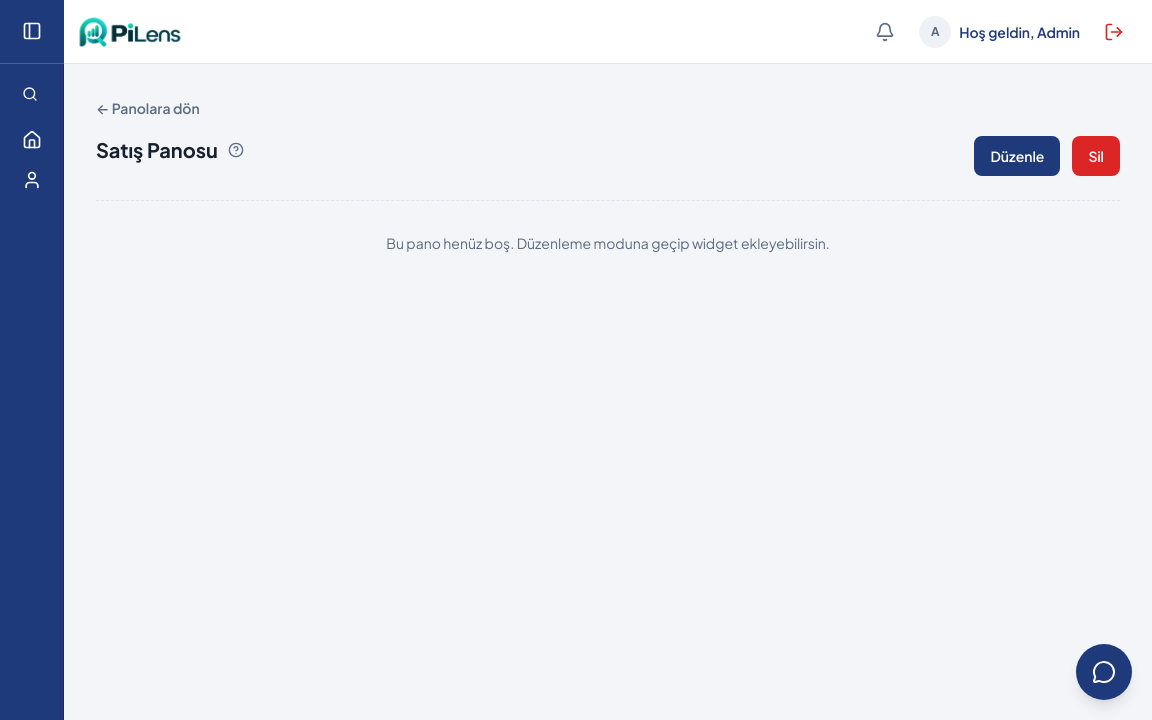
Test: DashboardViewPage › Sil butonu: onay modalinde vazgecilirse silme istegi atilmaz ve modal kapanir
The width and height of the screenshot is (1152, 720).
Click the button "Sil" at x=1096, y=156, box [1072,136,1120,176]
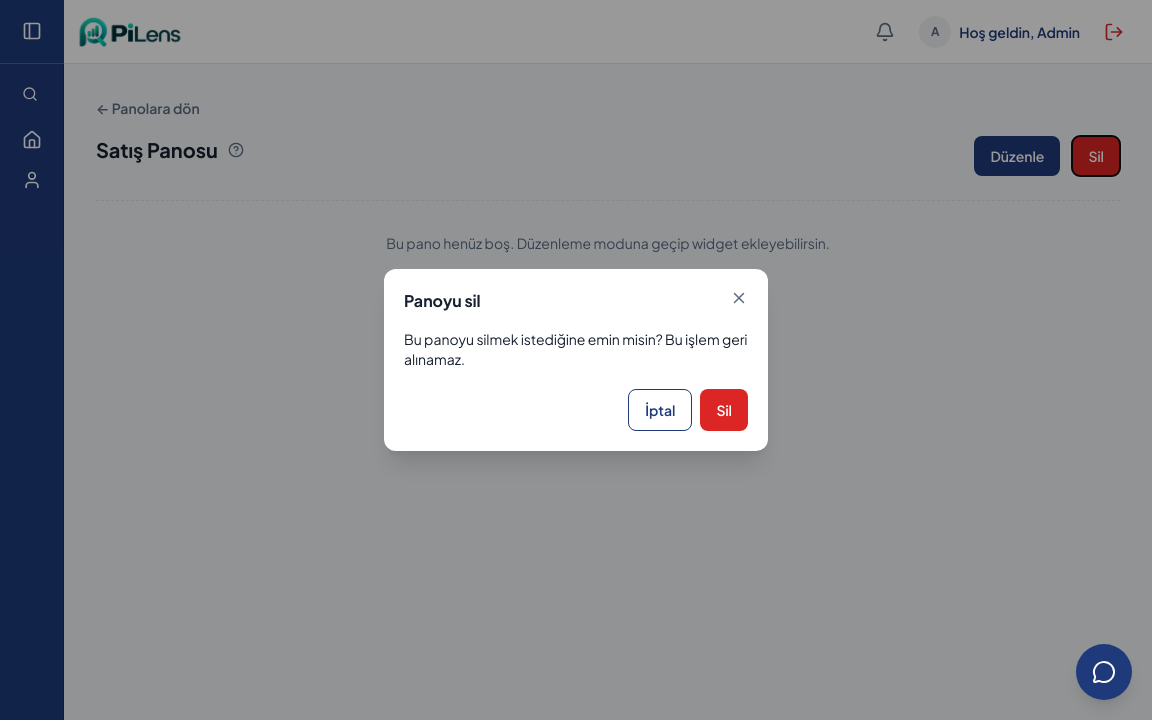
Click the button "İptal" at x=660, y=410, box [628,389,692,431]
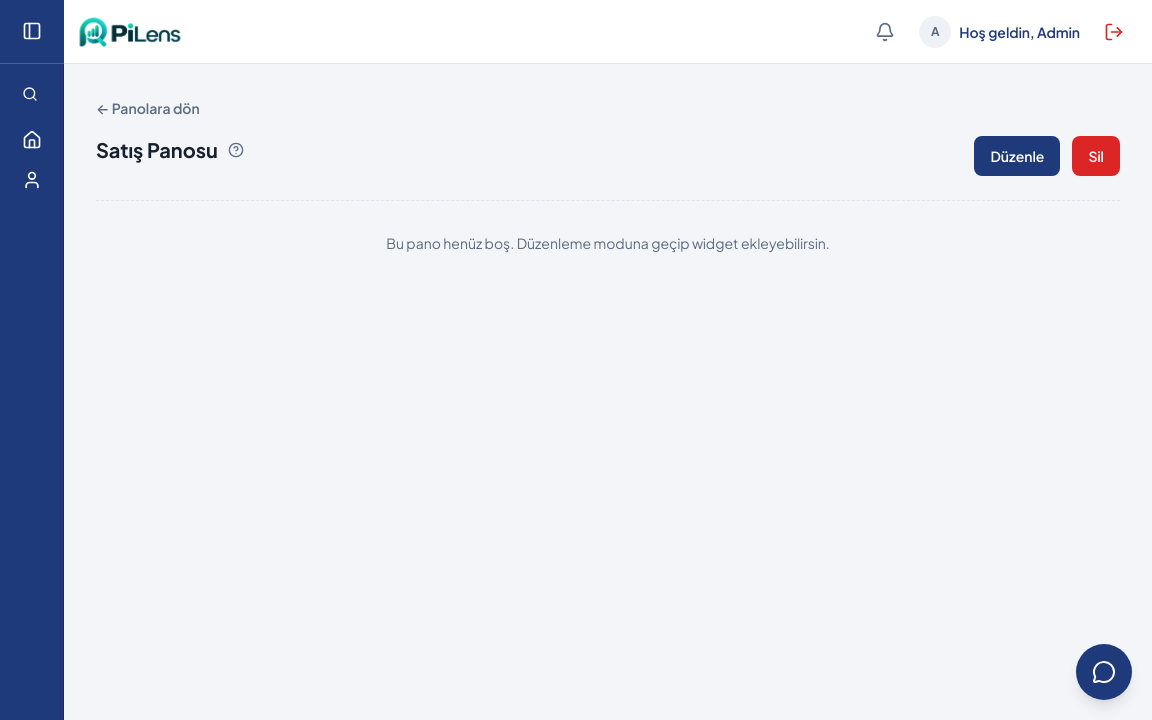
Expected: the heading "Panoyu sil" is gone
